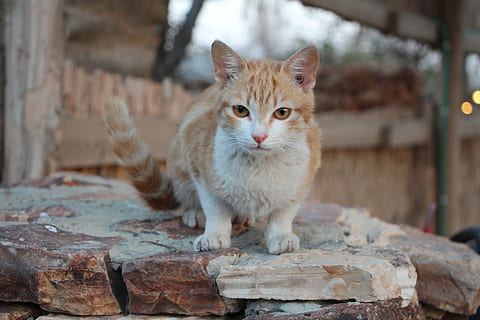cat: (110, 30, 356, 239)
